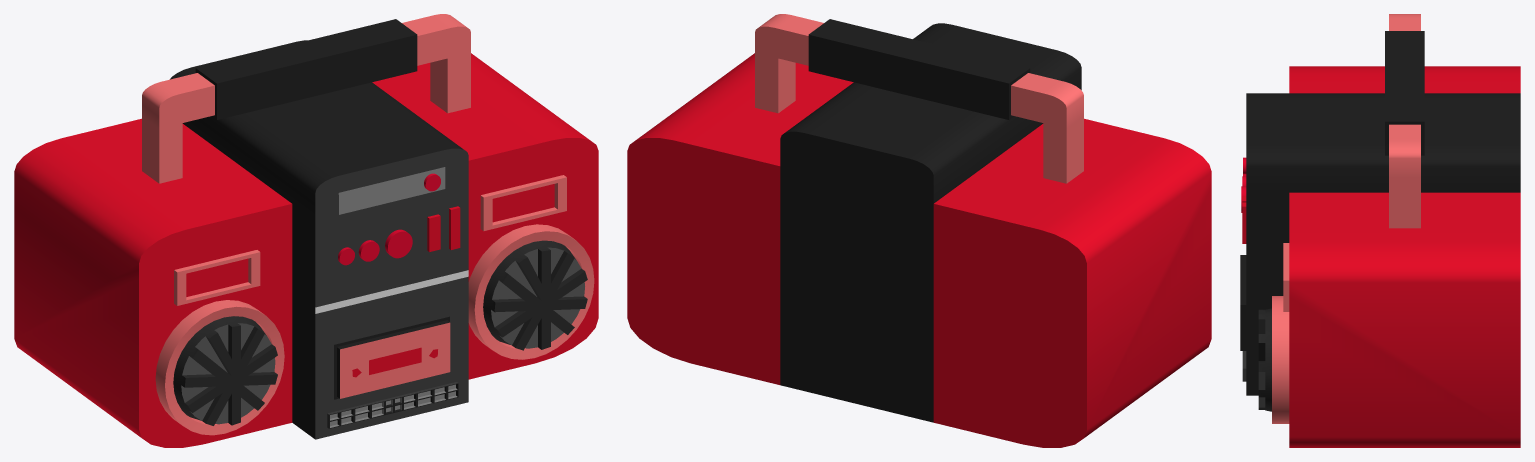
Rendered from Radio.fbx.
3 views of the same model, side by side, from view 1: azimuth 30°, elevation 25°; view 2: azimuth 150°, elevation 25°; view 3: azimuth 270°, elevation 25° (orthographic). The views are drawn at different scales.
Visible parts, largest first — view 1: Cube.001; view 2: Cube.001; view 3: Cube.001.
Part boxes in pixels (x1=…): Cube.001: x1=14, y1=14, x2=598, y2=447; Cube.001: x1=627, y1=14, x2=1211, y2=447; Cube.001: x1=1240, y1=14, x2=1520, y2=447.
Size of the model in its own units: 425 by 271 by 242.
